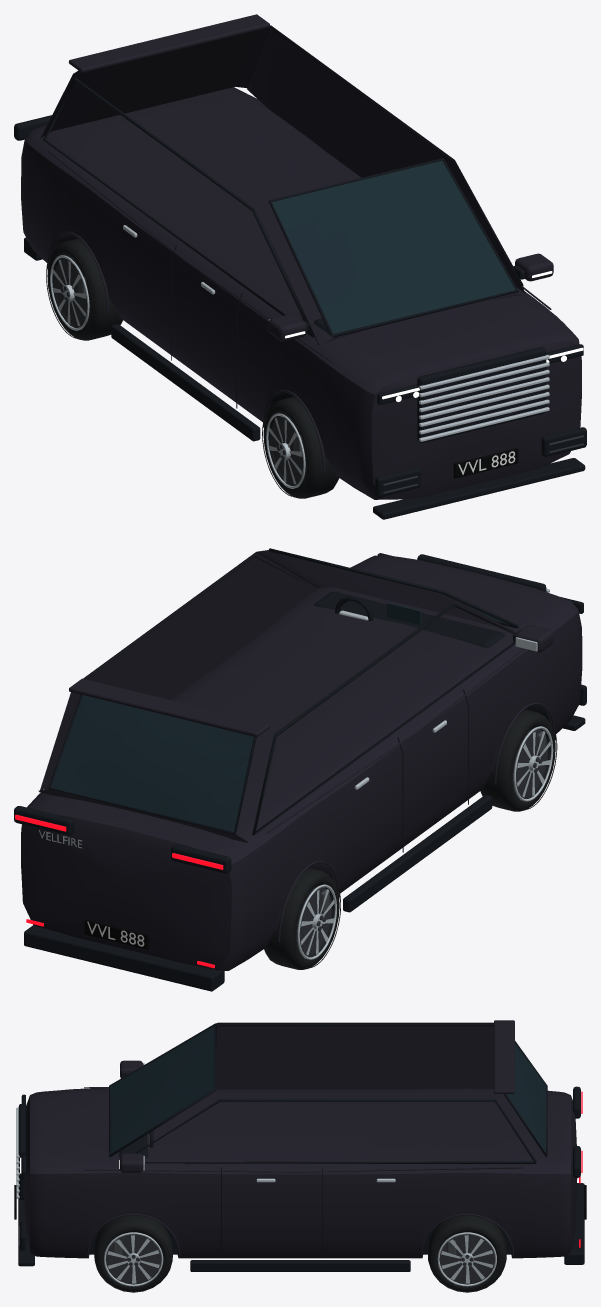
The model's file is vellfire.glb.
3 renders of one model, top to bottom at view 1: azimuth 30°, elevation 25°; view 2: azimuth 150°, elevation 25°; view 3: azimuth 270°, elevation 25°, orthographic. The views are drawn at different scales.
Parts seen in each view (by area): view 1: body__Automotive clearcoat, body__Solar glass, body__Satin black trim, body__Machined aluminium, wheel_FL.001__Tyre rubber, wheel_RL.001__Tyre rubber, wheel_FL.001__Graphite alloy, wheel_RL.001__Graphite alloy, wheel_RL.001__Machined aluminium, wheel_FL.001__Machined aluminium, body__Black registration plate; view 2: body__Automotive clearcoat, body__Satin black trim, body__Solar glass, wheel_RL.001__Tyre rubber, wheel_FL.001__Tyre rubber, wheel_RL.001__Graphite alloy, wheel_FL.001__Graphite alloy, wheel_RL.001__Machined aluminium, wheel_FL.001__Machined aluminium, body__Black registration plate, body__Machined aluminium, body__Red LED optics; view 3: body__Automotive clearcoat, body__Satin black trim, body__Solar glass, wheel_FR.001__Tyre rubber, wheel_RR.001__Tyre rubber, wheel_FR.001__Graphite alloy, wheel_RR.001__Graphite alloy, wheel_FR.001__Machined aluminium, wheel_RR.001__Machined aluminium, body__Machined aluminium.
Boxes of the visible parts, x1,y1,x2,y2 form: body__Automotive clearcoat: [21, 14, 581, 499]; body__Solar glass: [272, 160, 515, 335]; body__Satin black trim: [14, 29, 586, 519]; body__Machined aluminium: [123, 225, 549, 441]; wheel_FL.001__Tyre rubber: [262, 396, 339, 498]; wheel_RL.001__Tyre rubber: [46, 238, 122, 340]; wheel_FL.001__Graphite alloy: [271, 416, 306, 485]; wheel_RL.001__Graphite alloy: [55, 257, 90, 327]; wheel_RL.001__Machined aluminium: [50, 255, 89, 330]; wheel_FL.001__Machined aluminium: [266, 413, 305, 488]; body__Black registration plate: [453, 448, 518, 478]; body__Automotive clearcoat: [21, 550, 582, 970]; body__Satin black trim: [14, 548, 586, 991]; body__Solar glass: [51, 602, 506, 832]; wheel_RL.001__Tyre rubber: [264, 868, 340, 969]; wheel_FL.001__Tyre rubber: [480, 709, 557, 811]; wheel_RL.001__Graphite alloy: [296, 886, 331, 956]; wheel_FL.001__Graphite alloy: [512, 728, 547, 798]; wheel_RL.001__Machined aluminium: [297, 884, 336, 959]; wheel_FL.001__Machined aluminium: [513, 726, 553, 801]; body__Black registration plate: [84, 919, 149, 949]; body__Machined aluminium: [39, 588, 549, 848]; body__Red LED optics: [15, 814, 223, 968]; body__Automotive clearcoat: [24, 1020, 577, 1258]; body__Satin black trim: [18, 1023, 584, 1271]; body__Solar glass: [110, 1025, 545, 1153]; wheel_FR.001__Tyre rubber: [94, 1215, 173, 1292]; wheel_RR.001__Tyre rubber: [428, 1215, 506, 1292]; wheel_FR.001__Graphite alloy: [106, 1234, 161, 1283]; wheel_RR.001__Graphite alloy: [439, 1234, 494, 1283]; wheel_FR.001__Machined aluminium: [104, 1232, 163, 1286]; wheel_RR.001__Machined aluminium: [437, 1232, 496, 1286]; body__Machined aluminium: [16, 1063, 395, 1198].
Size of the model in its own units: 2.2 by 1.92 by 5.15.
